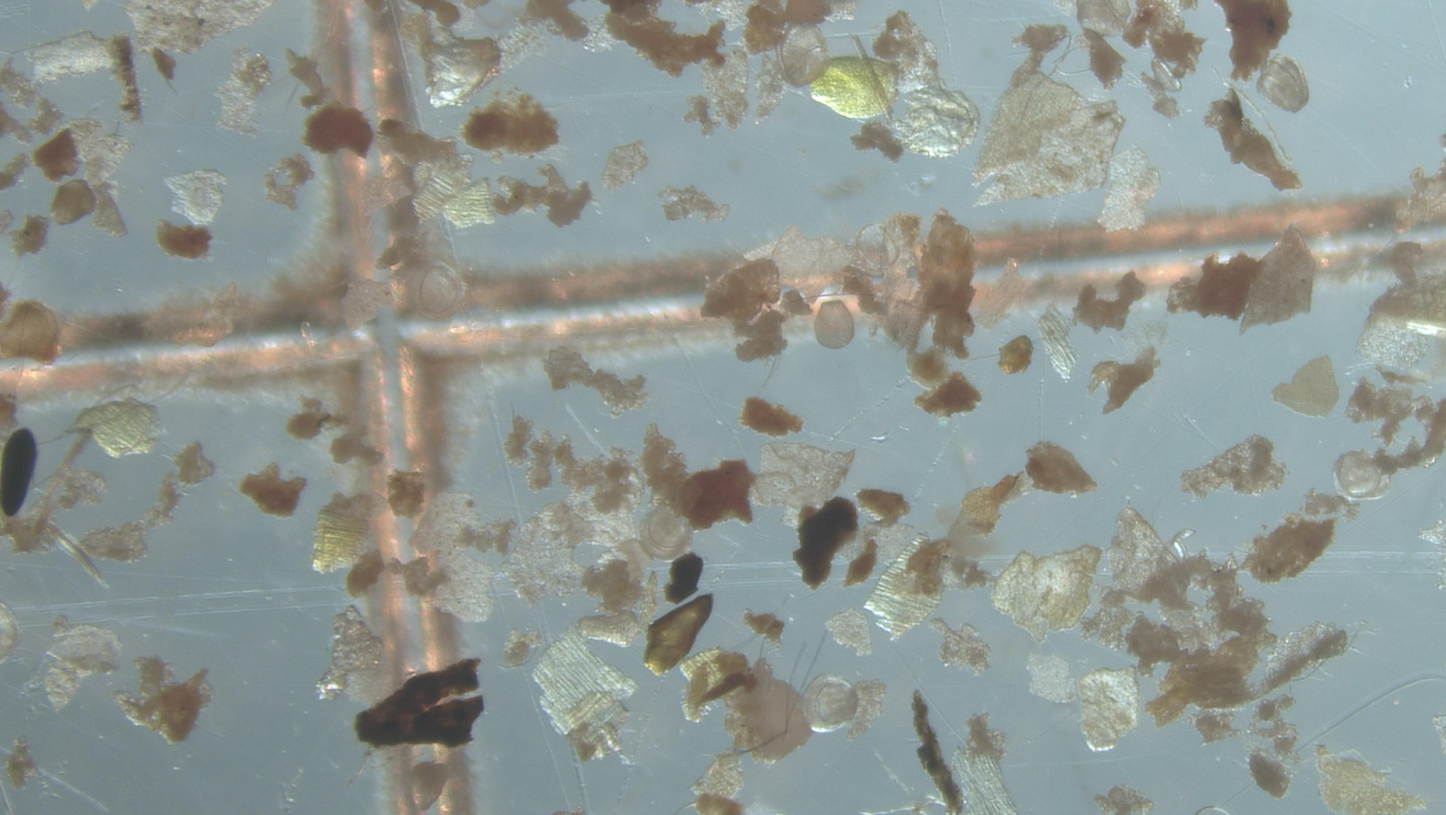dead: (853, 225, 888, 275), (1152, 56, 1181, 92), (1194, 806, 1230, 815)
live: (408, 262, 466, 319), (778, 25, 830, 86), (805, 675, 859, 732), (1258, 54, 1309, 113), (640, 505, 692, 561), (1335, 451, 1390, 500), (814, 299, 855, 349), (51, 179, 95, 224), (0, 602, 19, 662)
